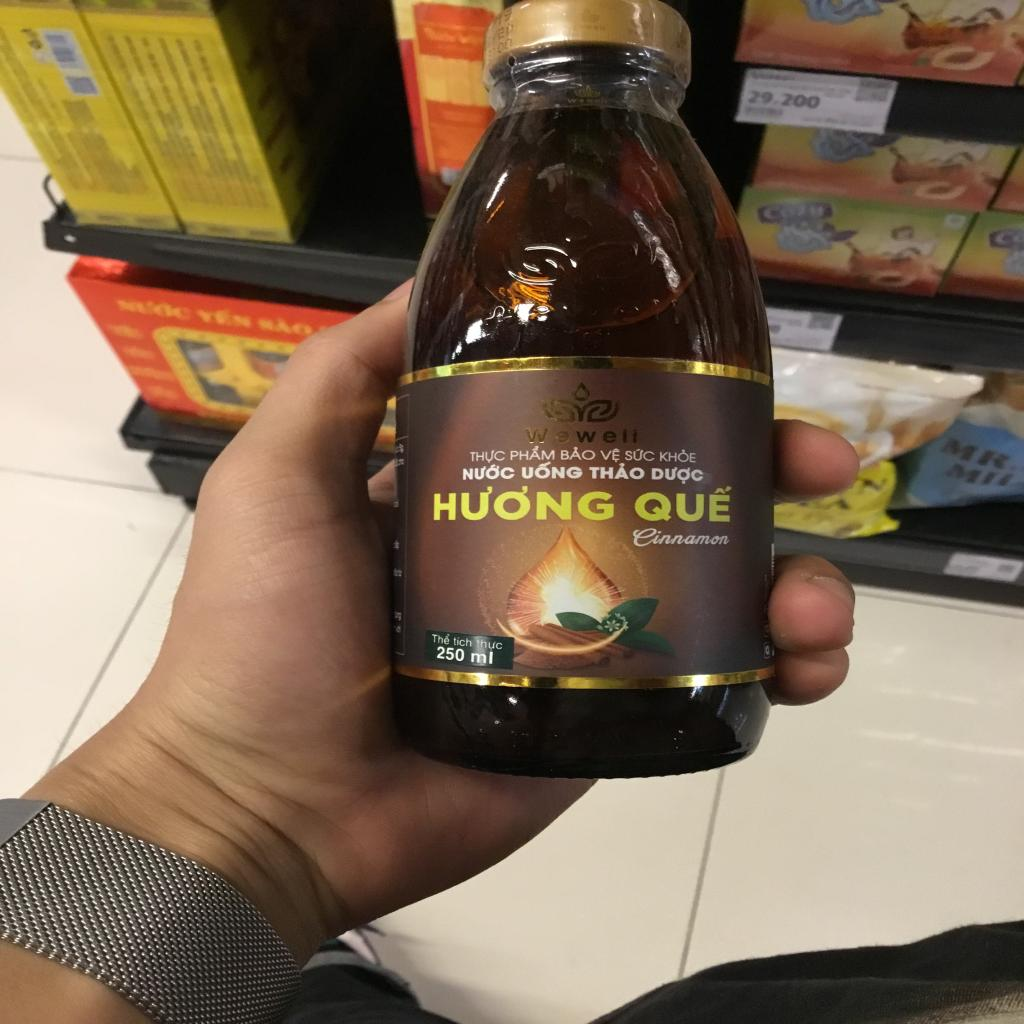text: (429, 482, 619, 528), (631, 484, 742, 524), (518, 424, 649, 446), (936, 436, 1012, 472), (942, 460, 1016, 492), (112, 294, 195, 322), (627, 528, 735, 548), (744, 88, 829, 112), (194, 303, 254, 332), (257, 311, 315, 337), (432, 646, 496, 666), (520, 464, 586, 482), (650, 464, 707, 484), (588, 463, 647, 481), (460, 464, 517, 482), (510, 446, 558, 463), (462, 448, 507, 464), (660, 447, 703, 463), (560, 447, 597, 463), (624, 446, 656, 462), (474, 636, 506, 652), (599, 447, 622, 462), (431, 630, 452, 646), (453, 635, 474, 648)
